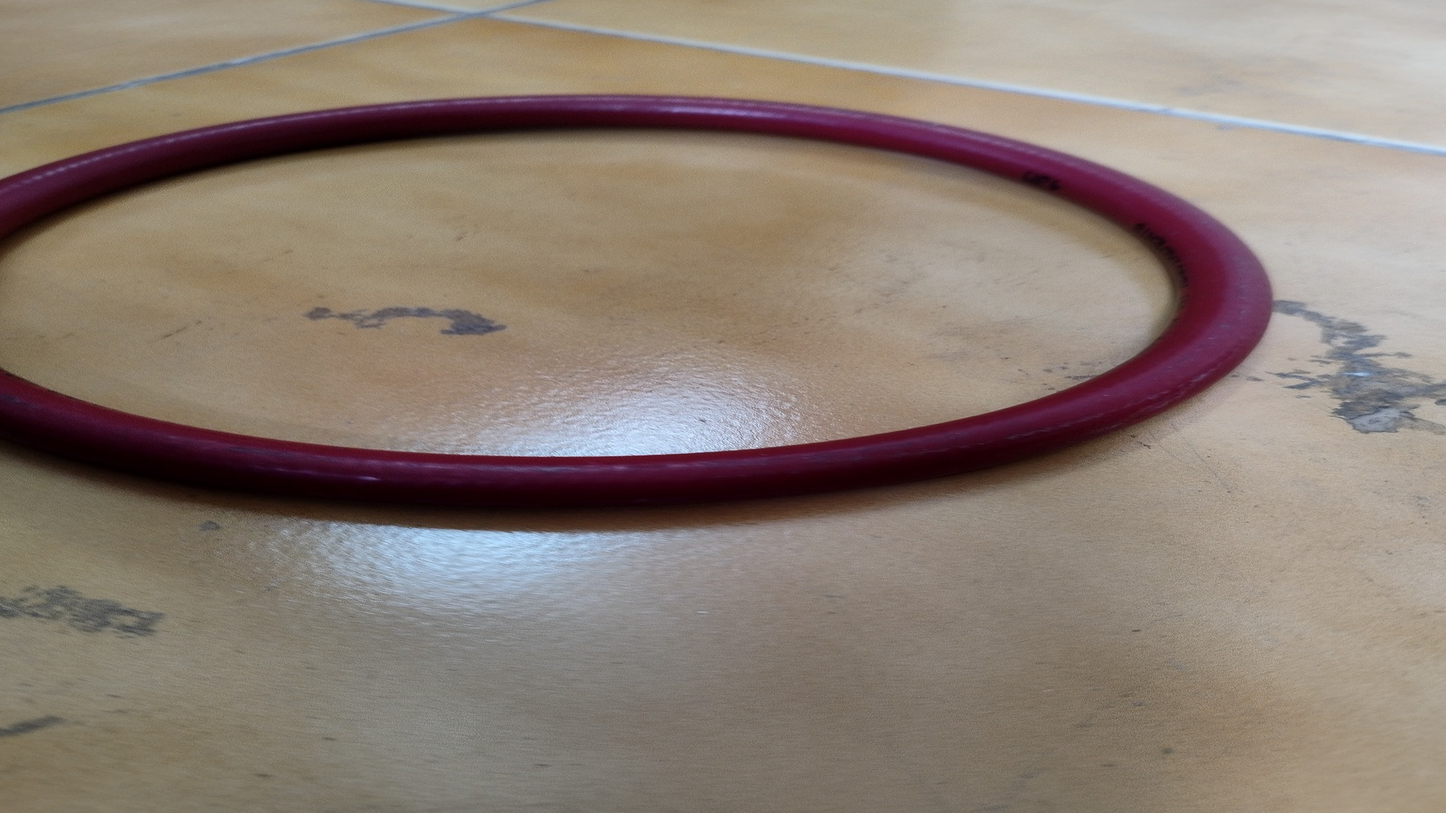Red ring: (2, 91, 1272, 509)
